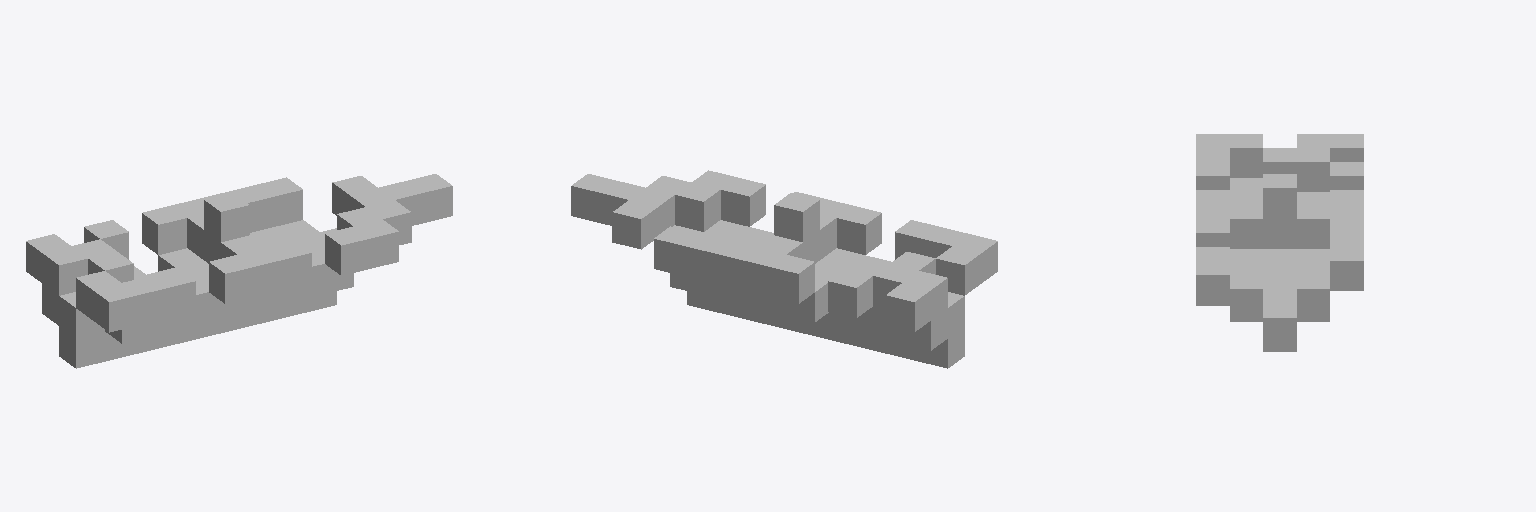
Rendered from BOAT_NOFLAG_DESTROY (1).obj.
3 renders of one model, left to right at view 1: azimuth 30°, elevation 25°; view 2: azimuth 150°, elevation 25°; view 3: azimuth 270°, elevation 25°, orthographic.
Visible parts, largest first — view 1: BOAT_NOFLAG_DESTROY; view 2: BOAT_NOFLAG_DESTROY; view 3: BOAT_NOFLAG_DESTROY.
Boxes of the visible parts, x1,y1,x2,y2 form: BOAT_NOFLAG_DESTROY: [26, 174, 452, 368]; BOAT_NOFLAG_DESTROY: [571, 170, 997, 368]; BOAT_NOFLAG_DESTROY: [1196, 134, 1363, 351].
Bounding box in the file's own units: 13 × 4 × 5.